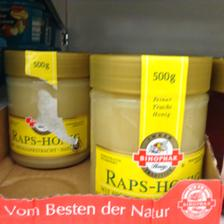Honig: (90, 50, 214, 202), (1, 49, 89, 167)
